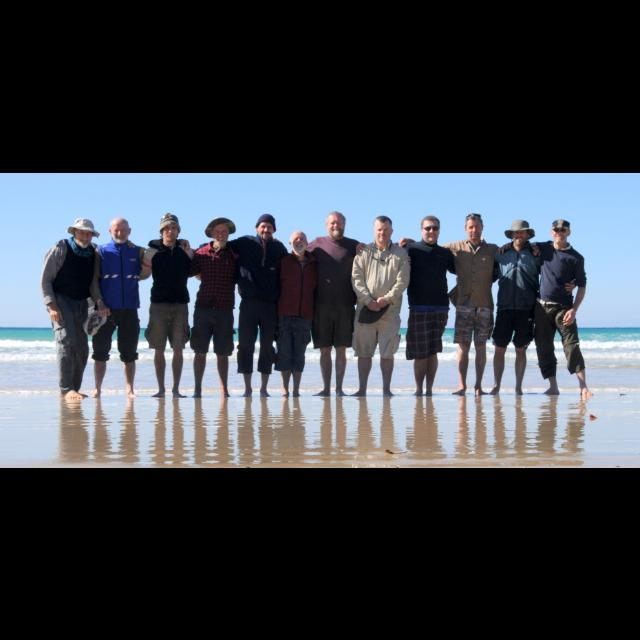head: (326, 210, 348, 240), (110, 216, 132, 244), (211, 218, 231, 248), (421, 215, 442, 243), (290, 229, 310, 257), (374, 215, 394, 243), (74, 222, 96, 246), (464, 215, 486, 239), (257, 214, 277, 240), (160, 220, 182, 242), (552, 222, 572, 244), (512, 224, 530, 246)
person: (397, 211, 543, 395), (288, 208, 412, 398), (354, 214, 482, 398), (456, 218, 578, 396), (190, 212, 302, 398), (82, 216, 192, 400), (170, 215, 280, 399), (120, 210, 224, 398), (494, 217, 596, 397), (39, 216, 137, 400), (237, 228, 339, 398), (350, 214, 412, 398)
